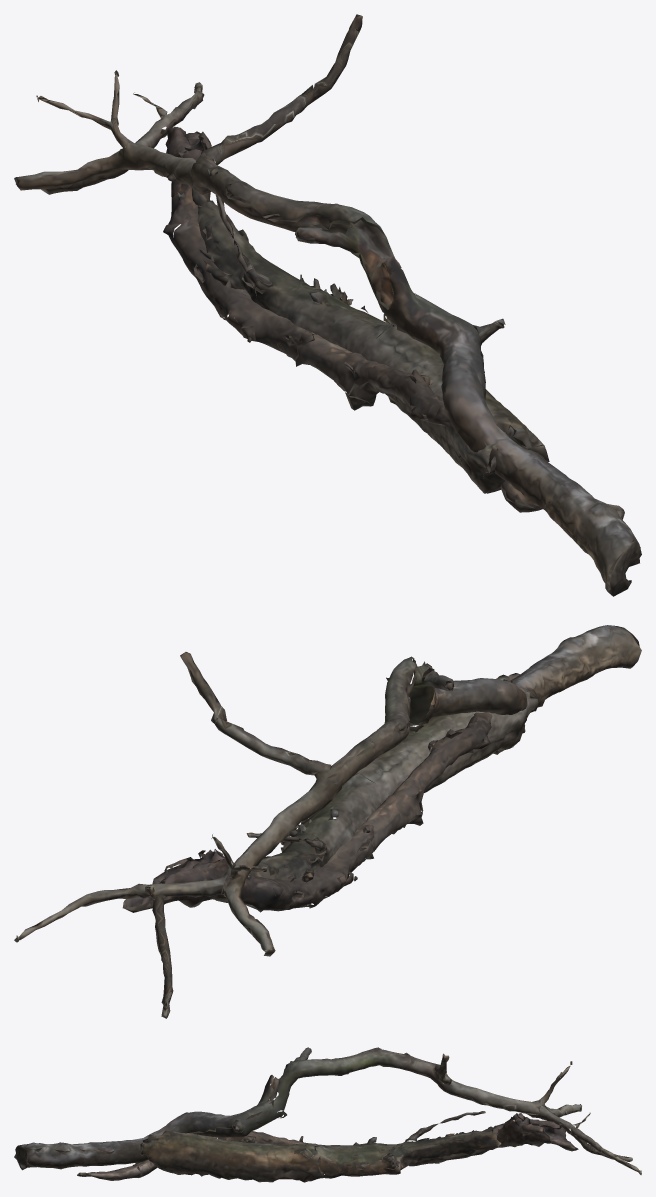
The model's file is dry-branches-medium-01.glb.
3 views of the same model, one above another, from view 1: azimuth 30°, elevation 25°; view 2: azimuth 150°, elevation 25°; view 3: azimuth 270°, elevation 25° (orthographic). The views are drawn at different scales.
Visible parts, largest first — view 1: dry_branches_medium_01_a, dry_branches_medium_01_c, dry_branches_medium_01_b; view 2: dry_branches_medium_01_a, dry_branches_medium_01_b, dry_branches_medium_01_c; view 3: dry_branches_medium_01_a, dry_branches_medium_01_c, dry_branches_medium_01_b.
Part boxes in pixels (x1,y1,x2,y2): dry_branches_medium_01_a: (14,14,641,596); dry_branches_medium_01_c: (191,187,549,493); dry_branches_medium_01_b: (163,126,624,519); dry_branches_medium_01_a: (14,625,641,1018); dry_branches_medium_01_b: (122,673,525,912); dry_branches_medium_01_c: (246,674,538,896); dry_branches_medium_01_a: (14,1047,641,1175); dry_branches_medium_01_c: (140,1111,515,1182); dry_branches_medium_01_b: (77,1113,578,1180).
Size of the model in its own units: 0.3231 by 0.3383 by 1.3.
3 materials, 3 textured.
